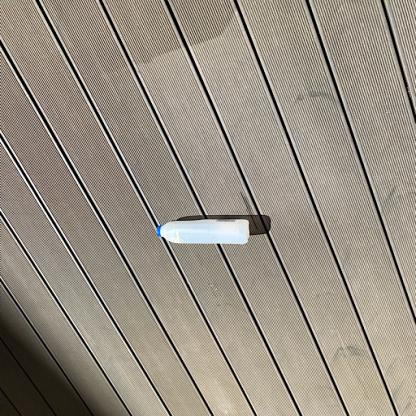trash: (156, 213, 254, 247)
